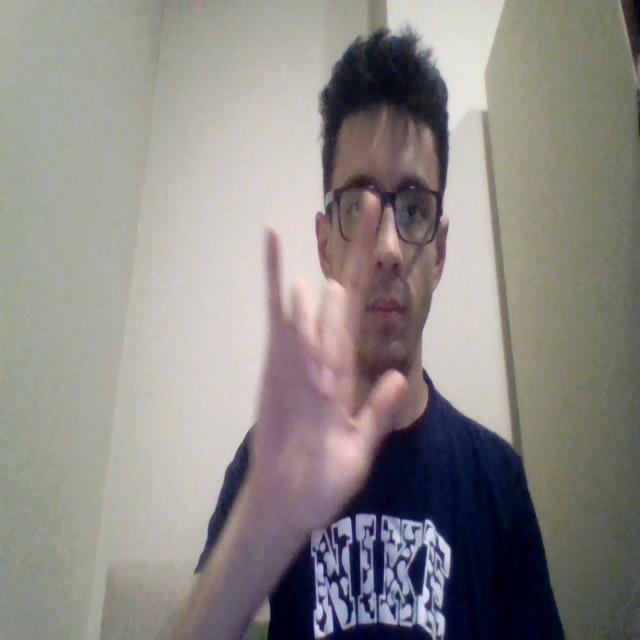iloveyou: (251, 226, 409, 537)
